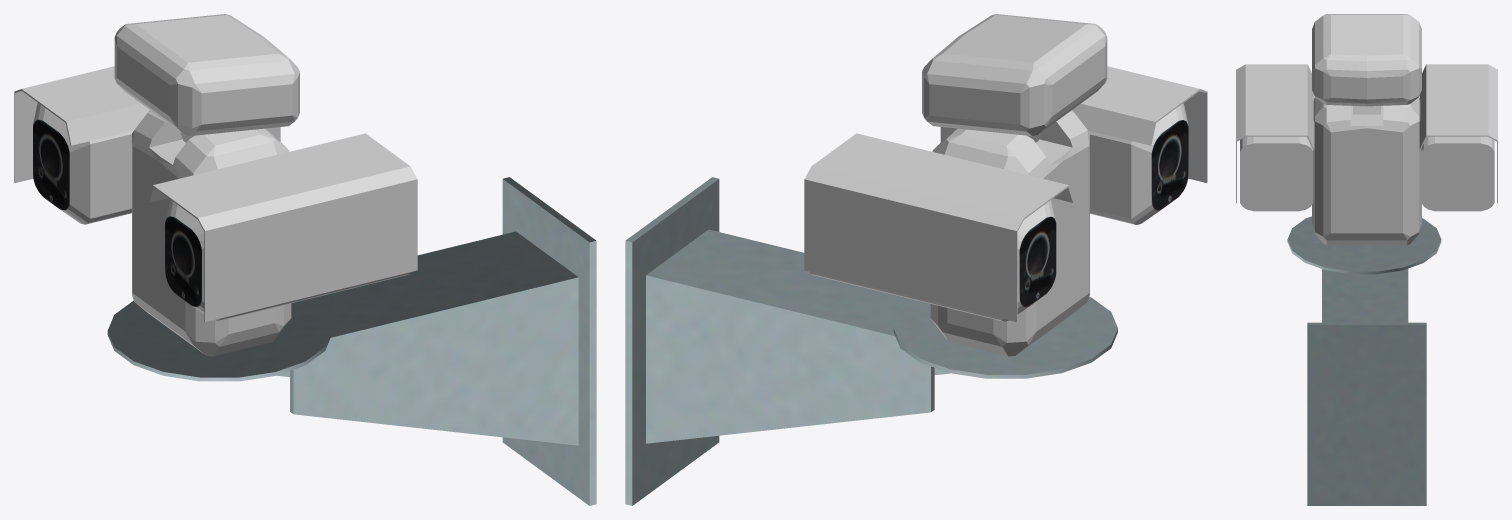
File: sxt01.FBX
3 views of the same model, side by side, from view 1: azimuth 30°, elevation 25°; view 2: azimuth 150°, elevation 25°; view 3: azimuth 270°, elevation 25° (orthographic). The views are drawn at different scales.
Parts seen in each view (by area): view 1: sxt001, Box001; view 2: sxt001, Box001; view 3: sxt001, Box001.
Part boxes in pixels (bbox=[...]): sxt001: bbox=[14, 14, 417, 356]; Box001: bbox=[107, 177, 596, 505]; sxt001: bbox=[804, 14, 1207, 356]; Box001: bbox=[625, 177, 1117, 505]; sxt001: bbox=[1236, 14, 1497, 245]; Box001: bbox=[1287, 216, 1441, 505].
Size of the model in its own units: 0.4521 by 0.511 by 0.3368.
3 materials, 3 textured.
